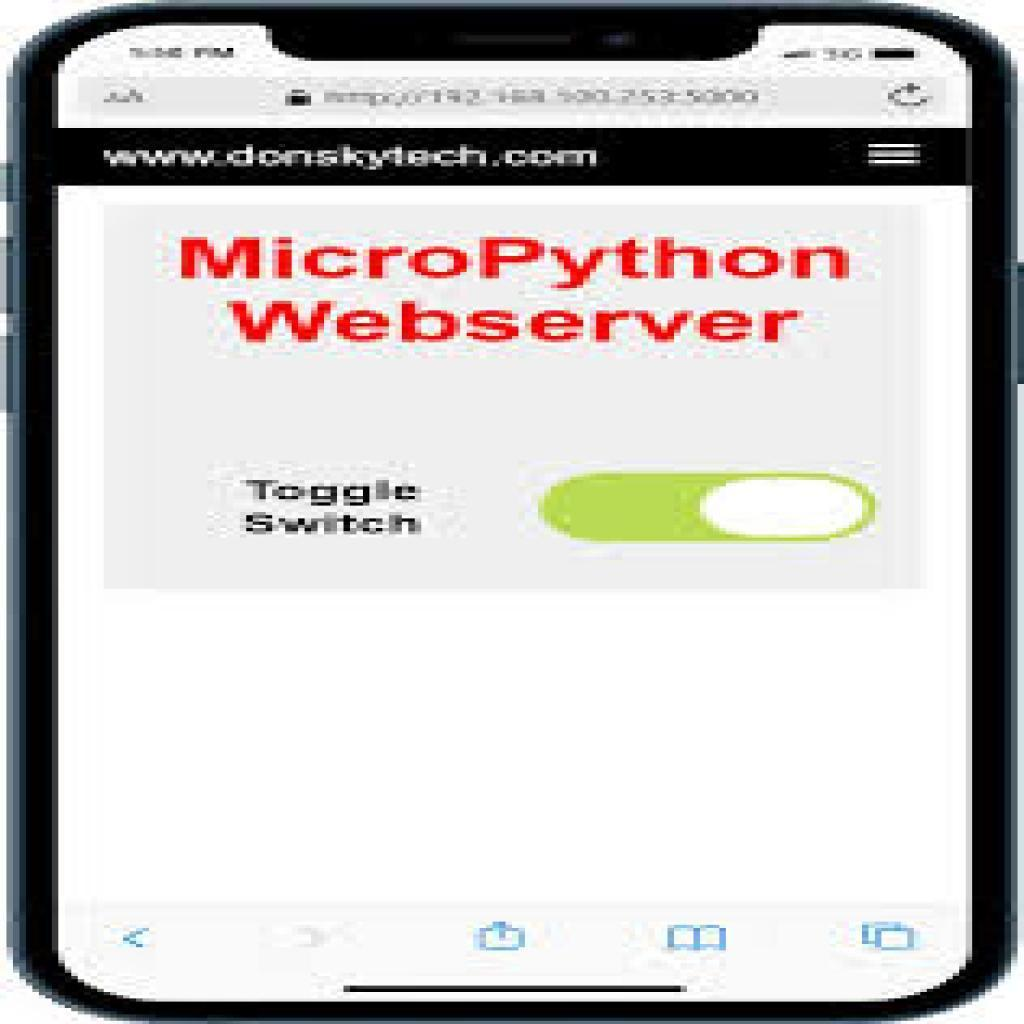switch: (543, 470, 878, 549)
